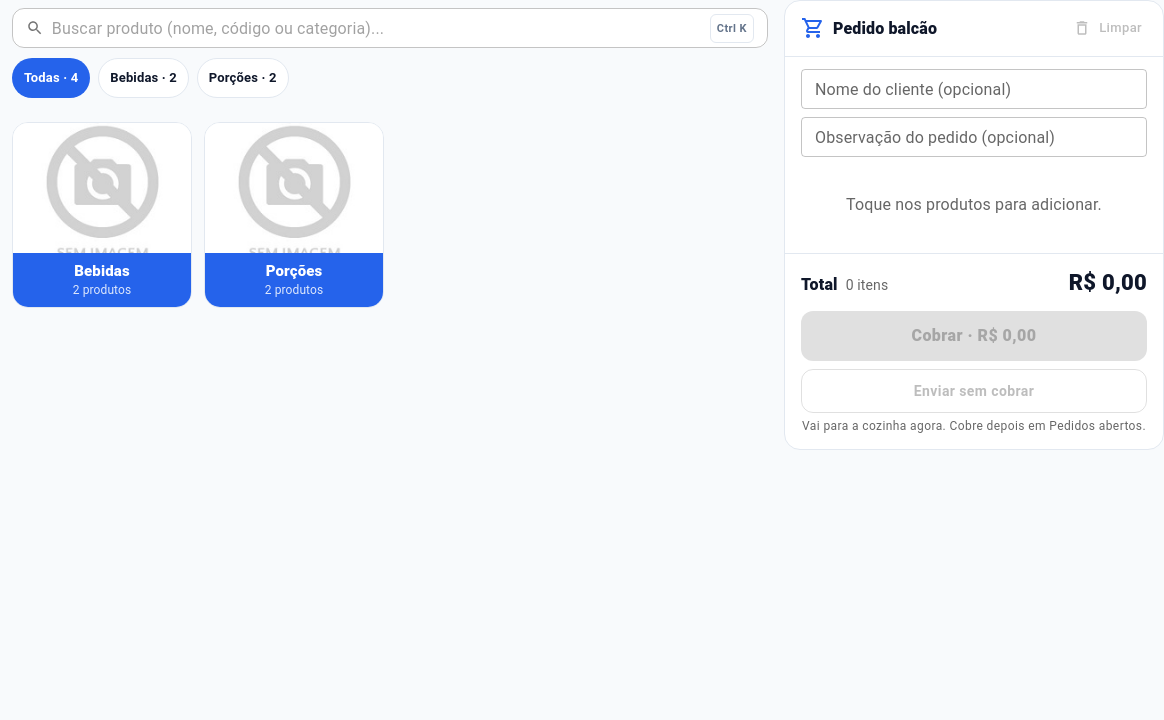
PDV de balcão › adiciona produto simples, mantém o carrinho ao filtrar e altera a quantidade
This screenshot has width=1164, height=720.
What coordinates should you click on to do the following:
click the button with aria-label "Ver produtos de Bebidas"
I would click on:
 (102, 215)
Its box is [12,122,192,308].
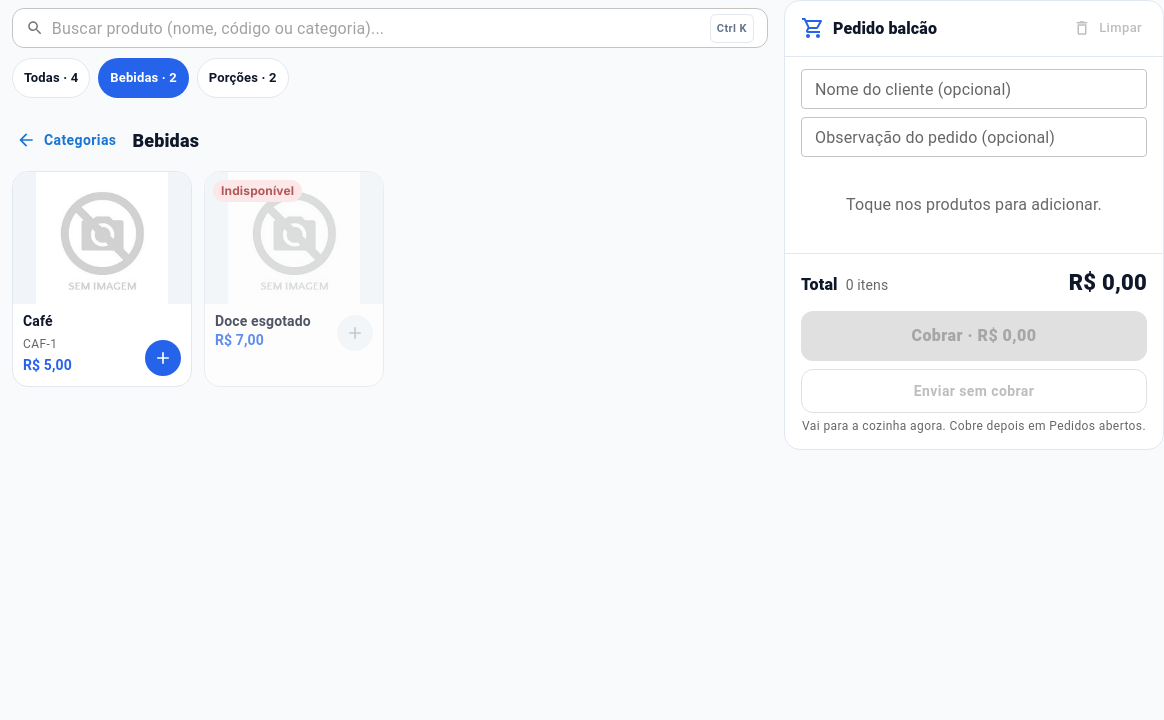
What coordinates should you click on to do the following:
click the button named "Adicionar Café"
I would click on:
 (163, 358)
Its box is [145,340,181,376].
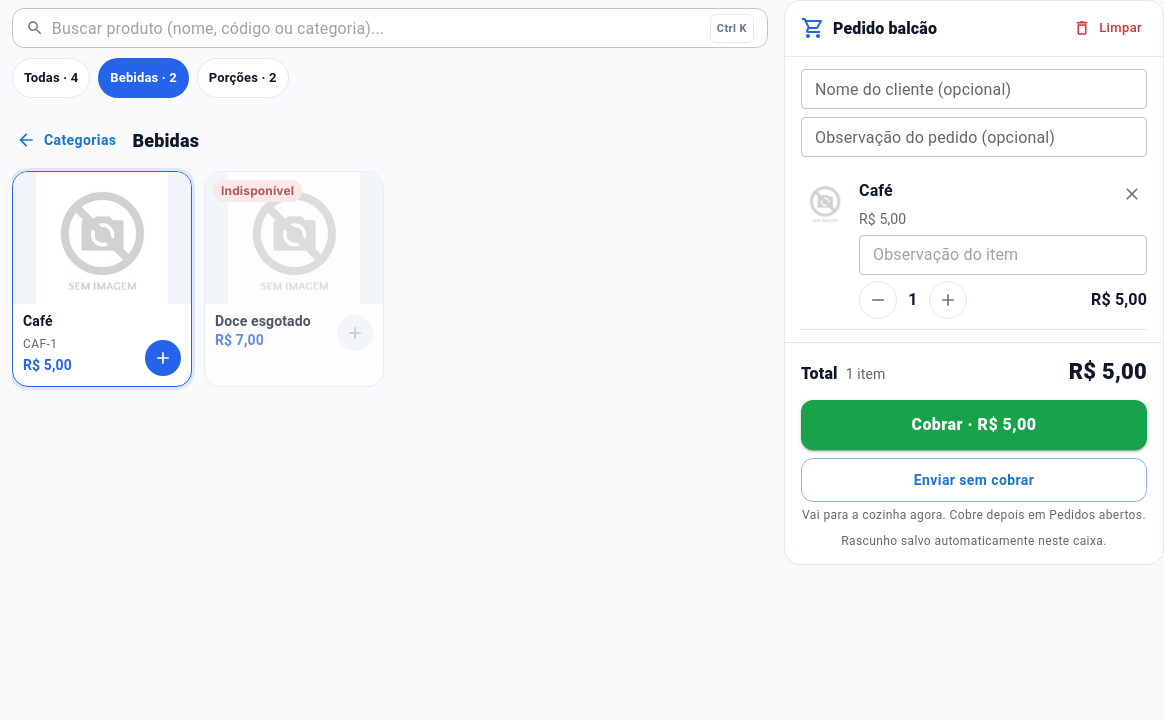
Expected: the message reads "Café adicionado ao pedido", [12,2,219,22]
Result: the text named "Quantidade de Café" reads "1" at [908,290,918,309]
What coordinates should you click on to do the following:
click the button "Porções · 2"
I would click on:
 (243, 78)
Its box is [197,58,289,98].
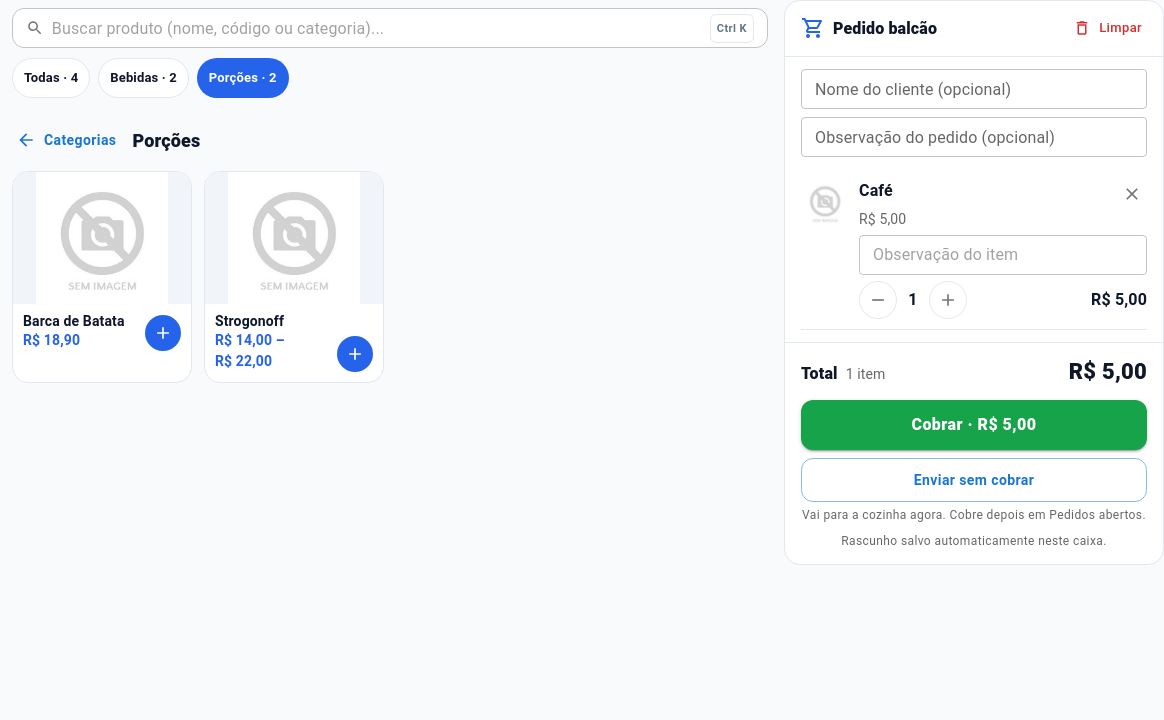
Result: the text named "Quantidade de Café" reads "1" at [908,290,918,309]
What coordinates should you click on to do the following:
click the button named "Aumentar Café"
I would click on:
 (948, 300)
Its box is [929,281,967,319].
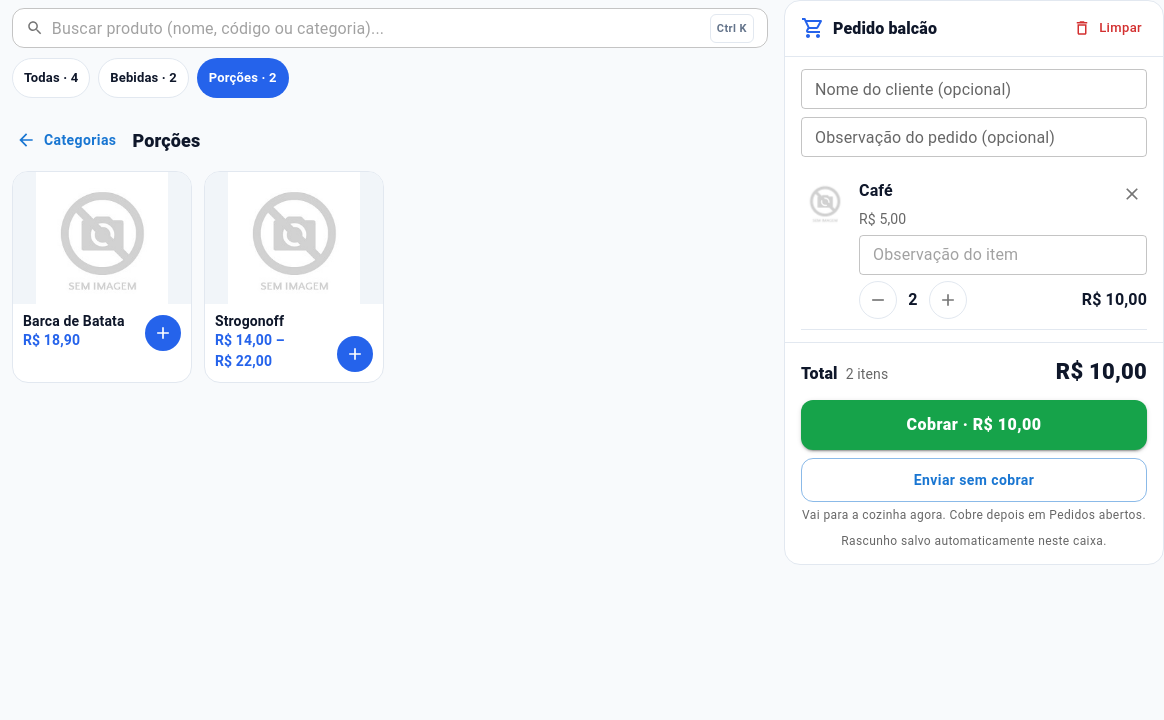
Result: the button "Cobrar · R$ 10,00" is enabled at [801,400,1147,450]
Result: the text named "Quantidade de Café" reads "2" at [908,290,918,309]
What coordinates should you click on to do the following:
click the button named "Diminuir Café"
I would click on:
 (878, 300)
Its box is [859,281,897,319].
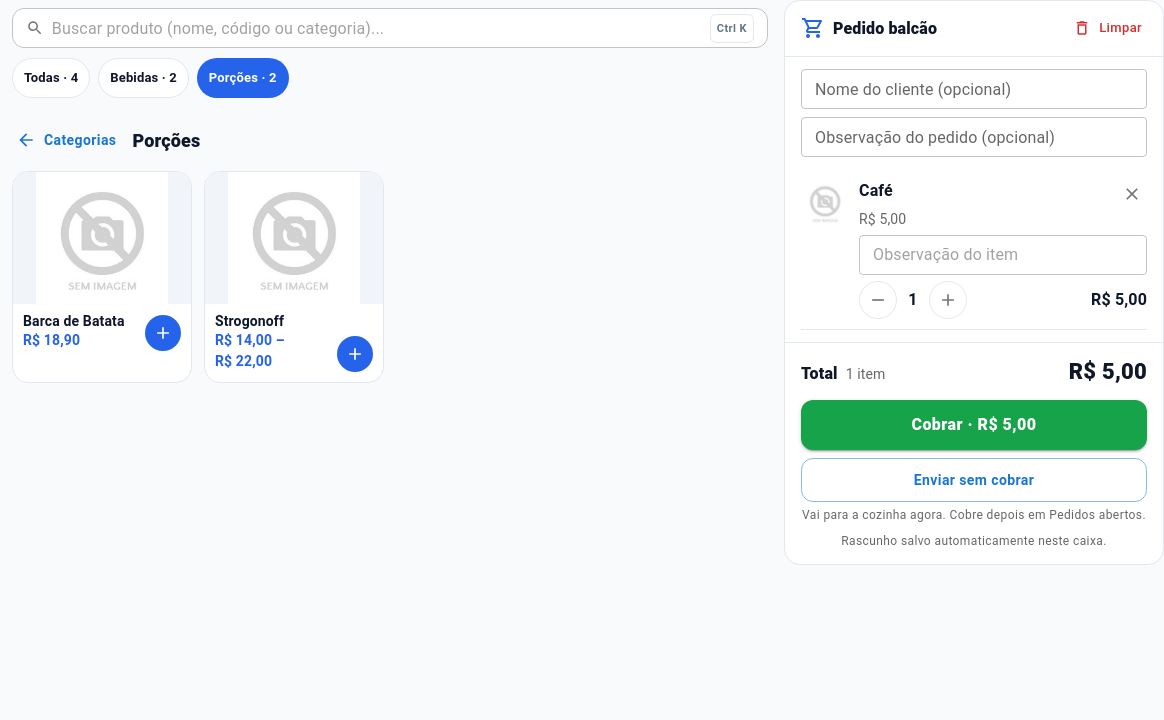
What coordinates should you click on to do the following:
click the button named "Diminuir Café"
I would click on:
 (878, 300)
Its box is [859,281,897,319].
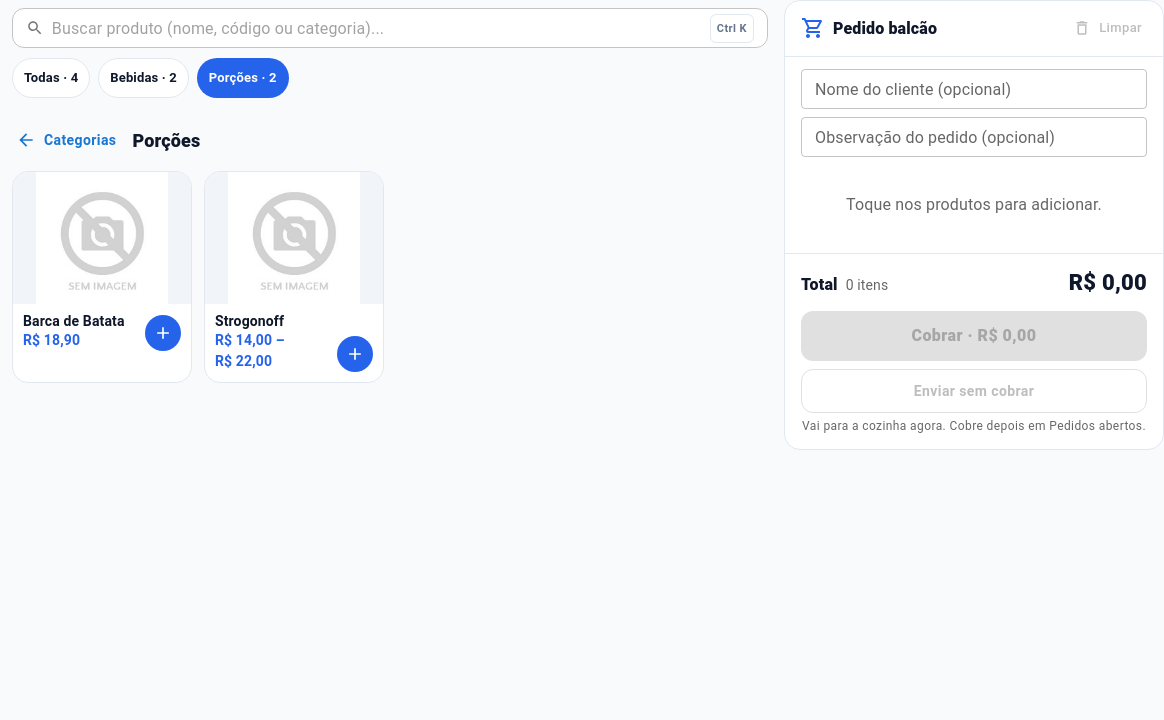
Result: the text labelled "Quantidade de Café" is gone
Result: the button "Cobrar · R$ 0,00" is disabled at [801,311,1147,361]
